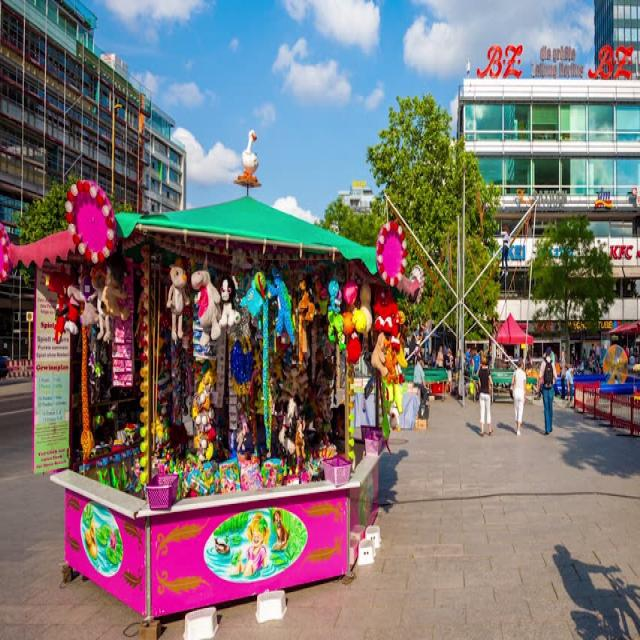body: (550, 536, 640, 640), (302, 335, 345, 465), (228, 511, 286, 581), (535, 344, 559, 436), (507, 355, 527, 436), (476, 352, 494, 439), (408, 316, 436, 367), (571, 340, 605, 377), (412, 355, 431, 417), (454, 346, 466, 406), (499, 222, 511, 278), (621, 332, 640, 367), (563, 363, 575, 408), (564, 366, 576, 410), (463, 418, 488, 438), (444, 347, 454, 396), (519, 419, 546, 437), (495, 417, 517, 439), (558, 347, 567, 400), (463, 341, 472, 387), (435, 344, 445, 385), (524, 342, 534, 382), (542, 344, 558, 367), (472, 347, 482, 377), (477, 347, 492, 364), (492, 313, 501, 339), (448, 350, 454, 382), (561, 342, 565, 354)
